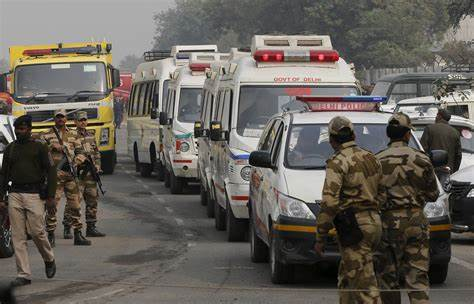ambulance: (193, 33, 374, 248)
